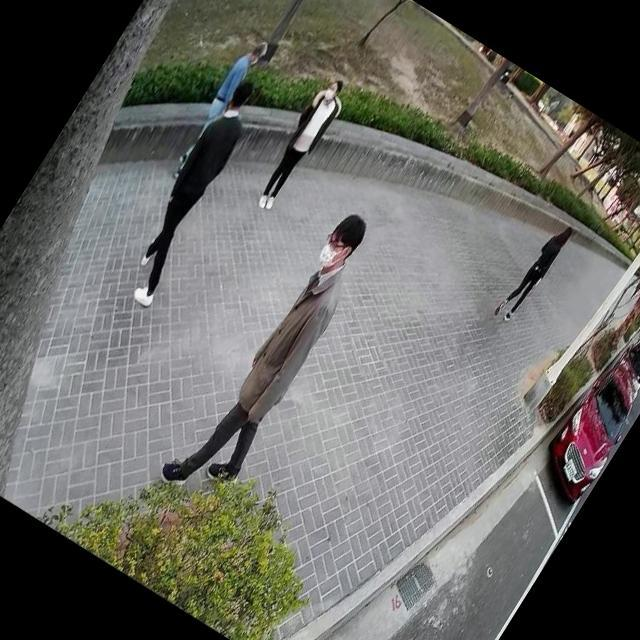person: (149, 187, 395, 520), (104, 66, 282, 312), (164, 30, 274, 186), (244, 67, 356, 219), (485, 205, 582, 334)
